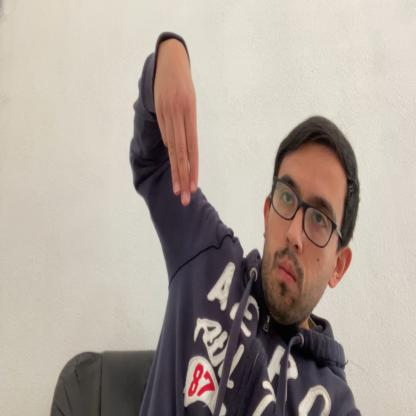M: (154, 41, 198, 206)
